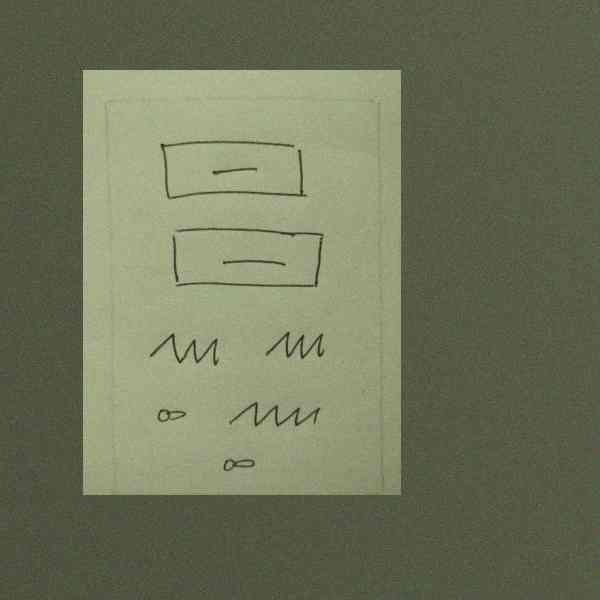button: (161, 218, 335, 298), (154, 136, 324, 207)
switch: (215, 452, 265, 478), (152, 402, 196, 429)
text: (224, 394, 329, 434), (143, 328, 231, 375), (261, 325, 339, 363)
